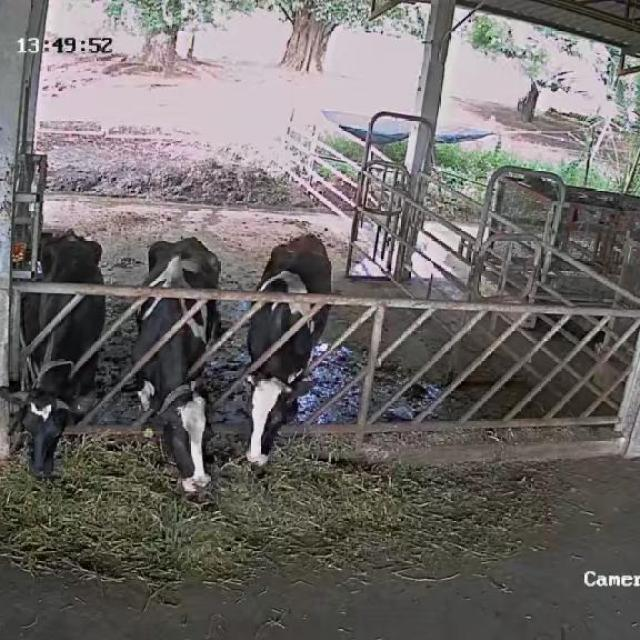feeding: (9, 230, 110, 496), (132, 235, 228, 498), (241, 230, 333, 497)
